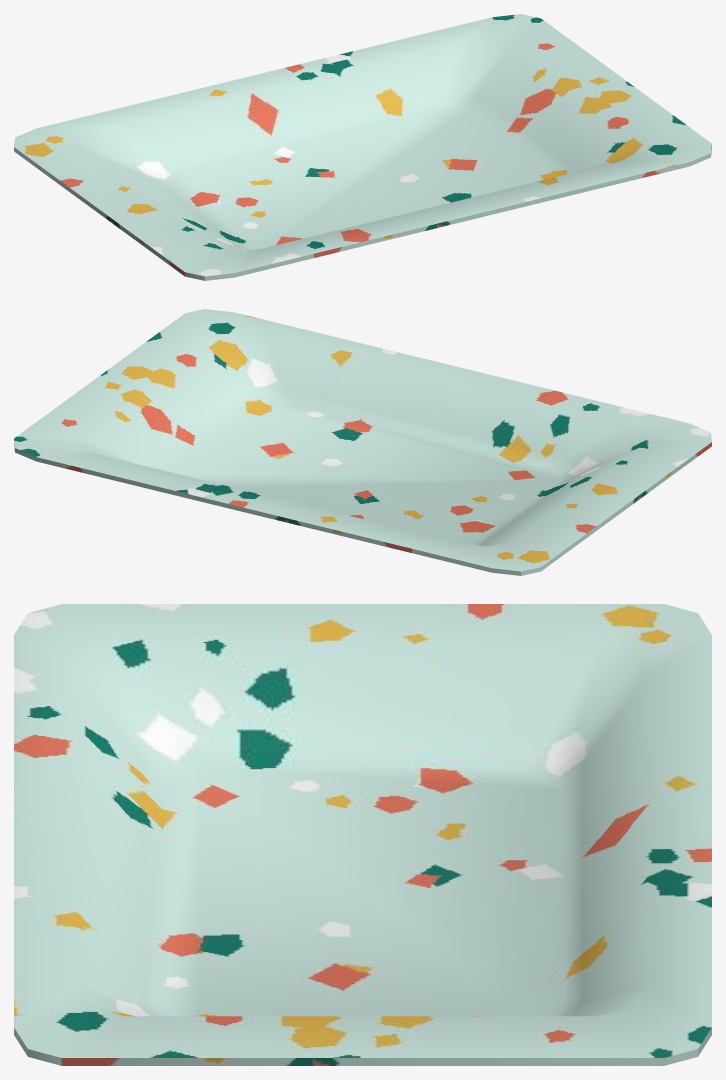
Rendered from board_c.glb.
The picture shows the model from 3 angles, top to bottom: view 1: azimuth 30°, elevation 25°; view 2: azimuth 150°, elevation 25°; view 3: azimuth 270°, elevation 25°; orthographic projection. The views are drawn at different scales.
Parts seen in each view (by area): view 1: body; view 2: body; view 3: body.
Part boxes in pixels (x1=…): body: x1=14, y1=14, x2=711, y2=280; body: x1=14, y1=309, x2=711, y2=575; body: x1=14, y1=604, x2=711, y2=1065.
Size of the model in its own units: 0.4 by 0.03 by 0.26.
Materials: 1 (1 with a texture image).
